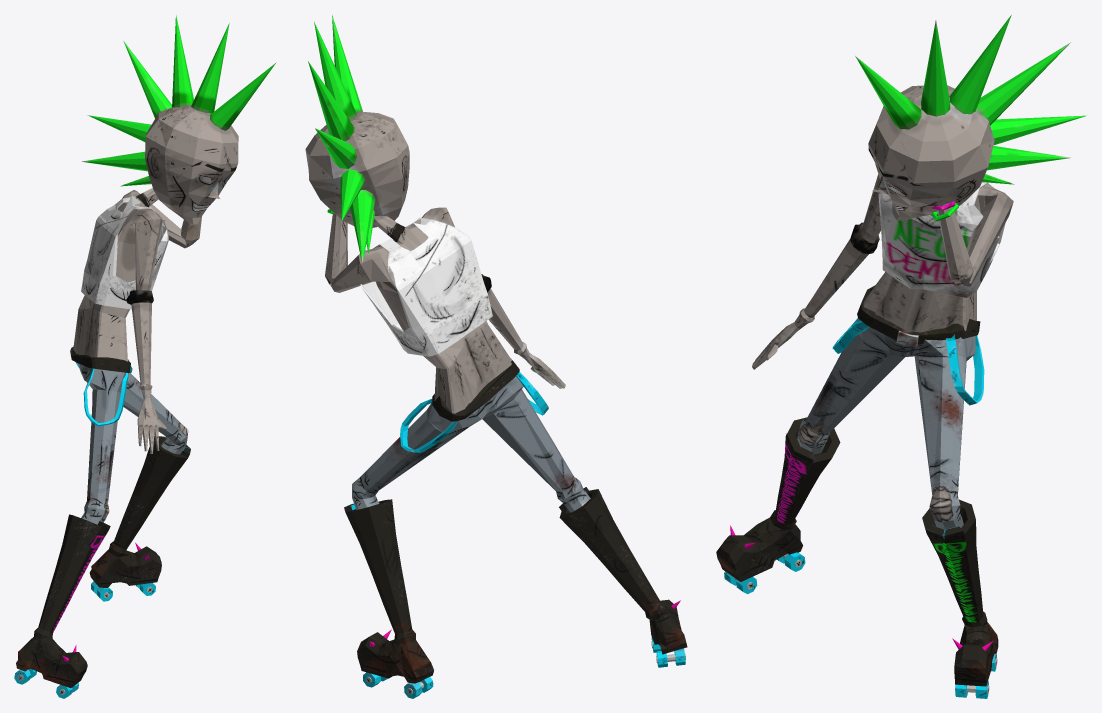
Rendered from punkAnimation_000038.obj.
The picture shows the model from 3 angles, left to right: view 1: azimuth 30°, elevation 25°; view 2: azimuth 150°, elevation 25°; view 3: azimuth 270°, elevation 25°; orthographic projection. The views are drawn at different scales.
Visible parts, largest first — view 1: Cube.004_Cube.003; view 2: Cube.004_Cube.003; view 3: Cube.004_Cube.003.
Boxes of the visible parts, x1,y1,x2,y2 form: Cube.004_Cube.003: [14, 15, 276, 698]; Cube.004_Cube.003: [305, 15, 687, 698]; Cube.004_Cube.003: [716, 15, 1086, 698].
Size of the model in its own units: 3.6 by 6.7 by 3.13.
